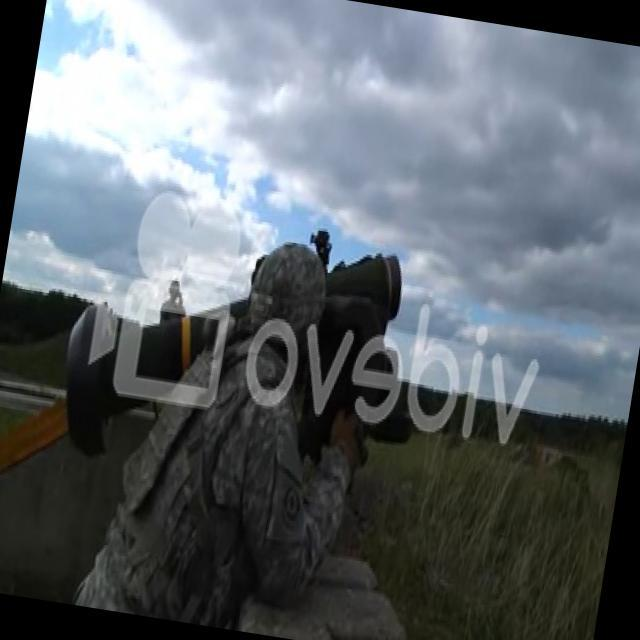rocket: (51, 202, 407, 498)
